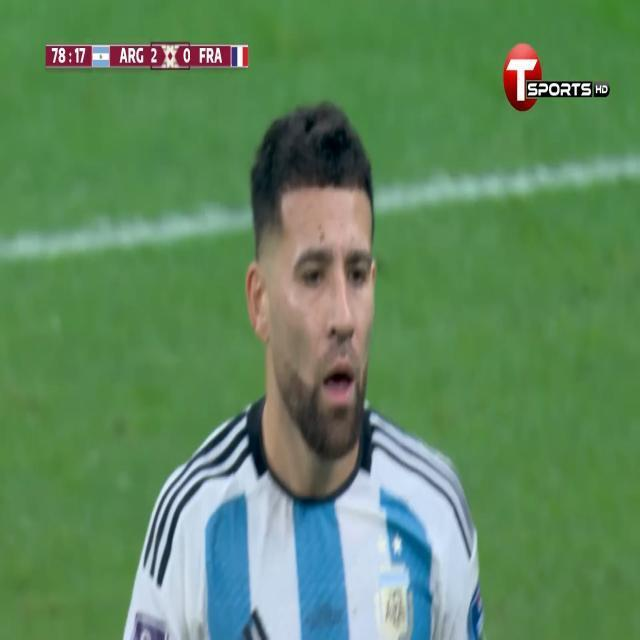player: (120, 91, 489, 640)
